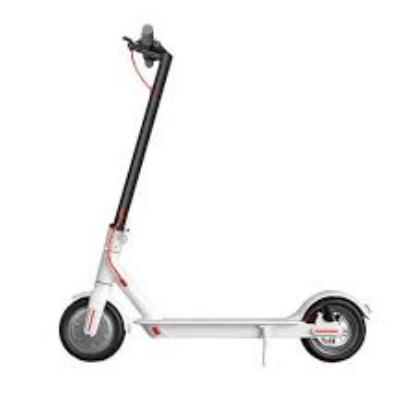bike: (58, 24, 374, 367)
